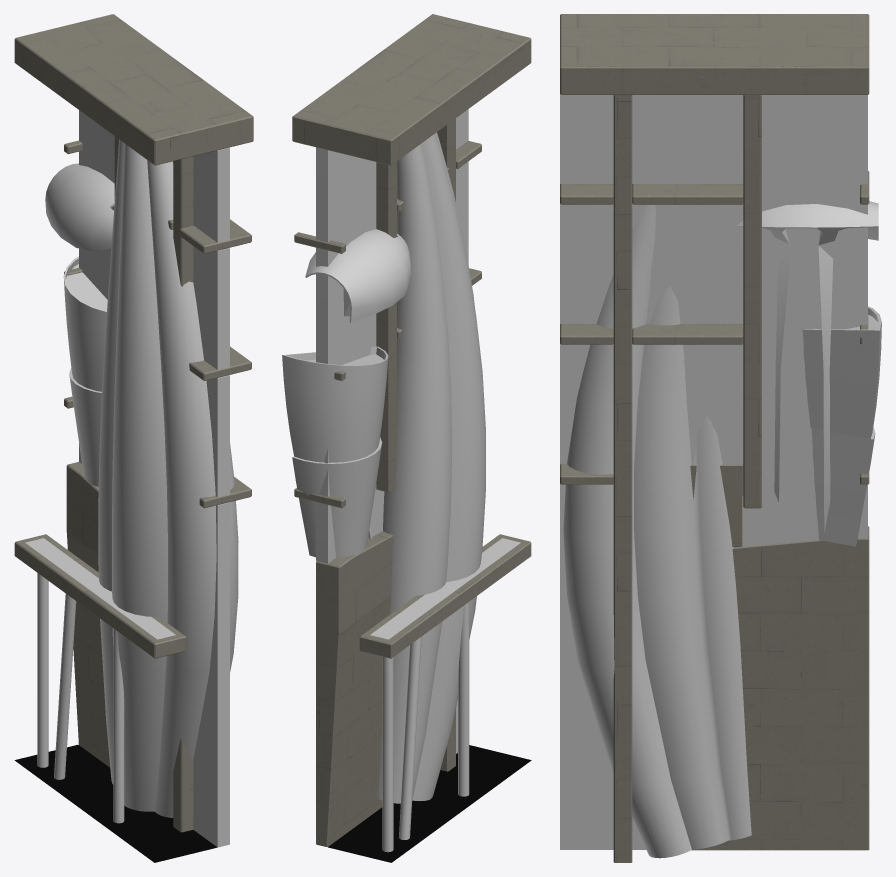
The model's file is Wall.fbx.
3 views of the same model, side by side, from view 1: azimuth 30°, elevation 25°; view 2: azimuth 150°, elevation 25°; view 3: azimuth 270°, elevation 25° (orthographic). The views are drawn at different scales.
Visible parts, largest first — view 1: Column02, Wall, Floor, Pit1, Column01, Canopy01; view 2: Wall, Column02, Column01, Floor, Pit1, Canopy01; view 3: Wall, Column02, Column01, Struts01, Canopy01.
Part boxes in pixels (box(x1,y1,x2,y2)): Column02: box(98, 139, 238, 817); Wall: box(14, 14, 253, 847); Floor: box(14, 534, 186, 823); Pit1: box(14, 744, 217, 862); Column01: box(63, 256, 107, 486); Canopy01: box(45, 163, 114, 251); Wall: box(292, 14, 531, 846); Column02: box(376, 132, 485, 803); Column01: box(282, 346, 388, 557); Floor: box(359, 534, 531, 852); Pit1: box(328, 745, 531, 862); Canopy01: box(305, 229, 411, 322); Wall: box(560, 14, 869, 862); Column02: box(563, 204, 751, 858); Column01: box(802, 306, 881, 546); Struts01: box(739, 226, 846, 533); Canopy01: box(736, 201, 878, 240).
Size of the model in its own units: 215 by 1432 by 521.
